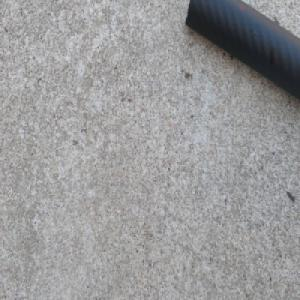LuggagePart: (183, 0, 300, 106)
